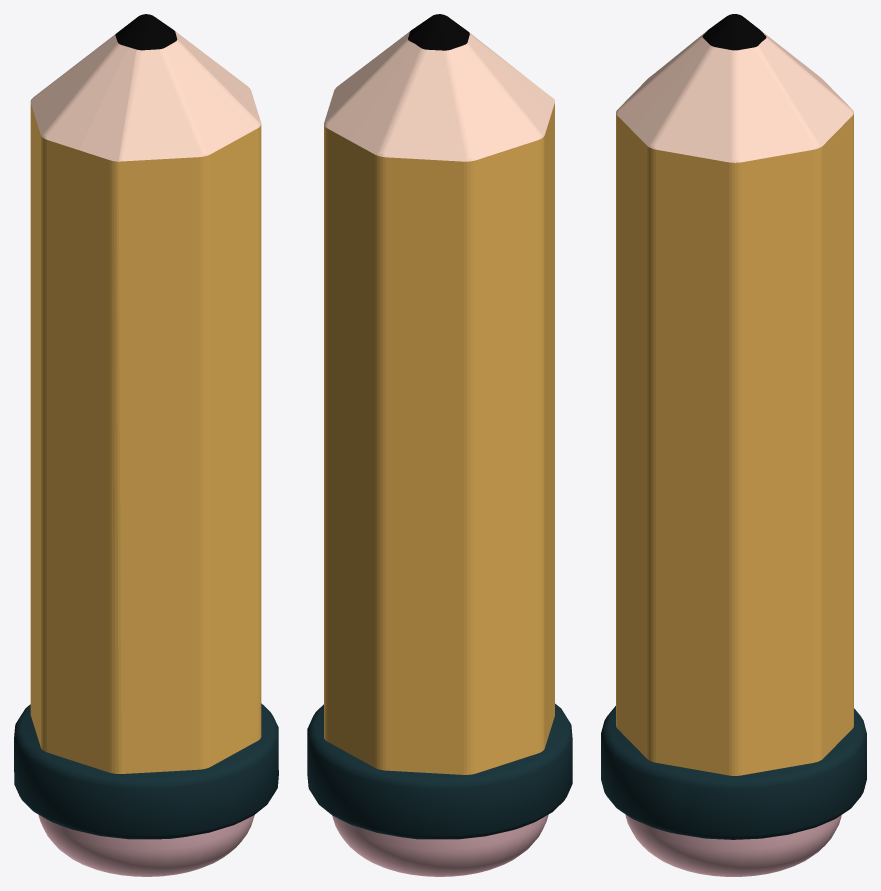
File: Stylo_export.glb
3 renders of one model, left to right at view 1: azimuth 30°, elevation 25°; view 2: azimuth 150°, elevation 25°; view 3: azimuth 270°, elevation 25°, orthographic.
Visible parts, largest first — view 1: Cylinder.007, Cylinder.005, Cylinder.006; view 2: Cylinder.007, Cylinder.005, Cylinder.006; view 3: Cylinder.007, Cylinder.005, Cylinder.006.
Part boxes in pixels (x1,y1,x2,y2): Cylinder.007: (30, 14, 261, 773); Cylinder.005: (14, 703, 278, 839); Cylinder.006: (38, 814, 254, 876); Cylinder.007: (324, 14, 554, 774); Cylinder.005: (307, 703, 572, 839); Cylinder.006: (332, 814, 548, 876); Cylinder.007: (616, 14, 853, 775); Cylinder.005: (601, 706, 866, 839); Cylinder.006: (625, 814, 841, 876).
Bounding box in the file's own units: 2.21 × 7.62 × 2.21.
